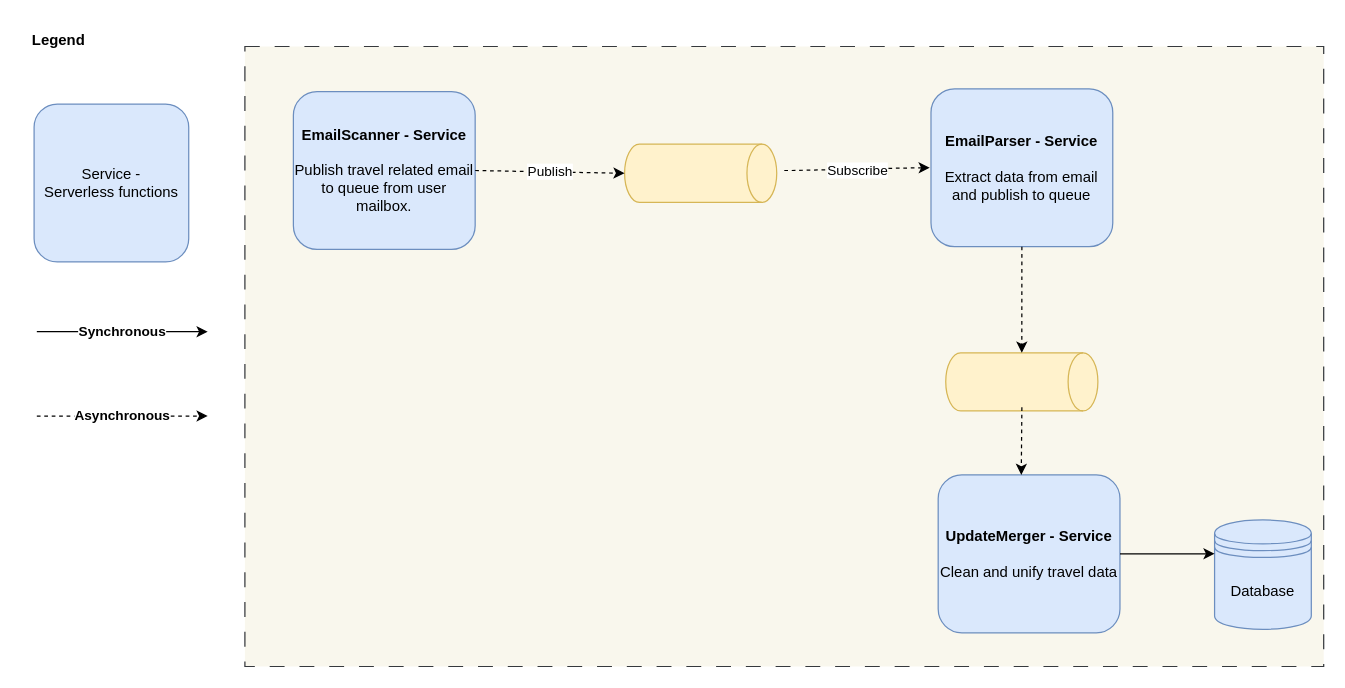
Some shapes in this 1345 by 688 pixel diagram are drawn without their labels. The centre of each missing label's shape, as x and y in pixels:
"Travel data" goes at pixel 1021 381.
"Travel relevent email" goes at pixel 700 172.
